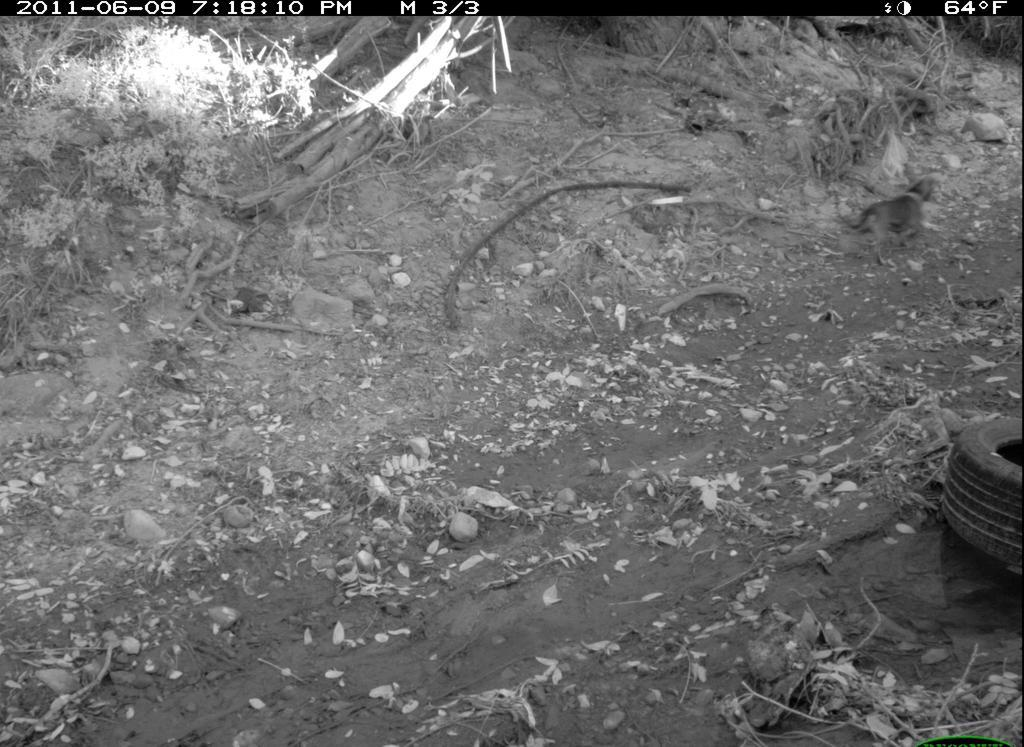dog: (849, 164, 944, 257)
